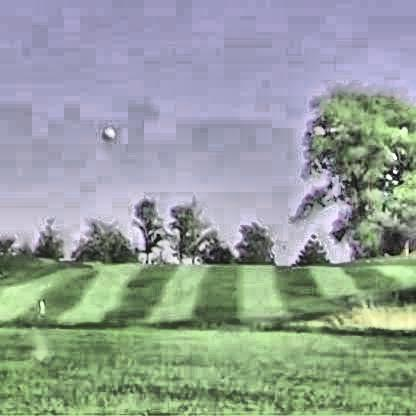golfball: (98, 124, 112, 139)
